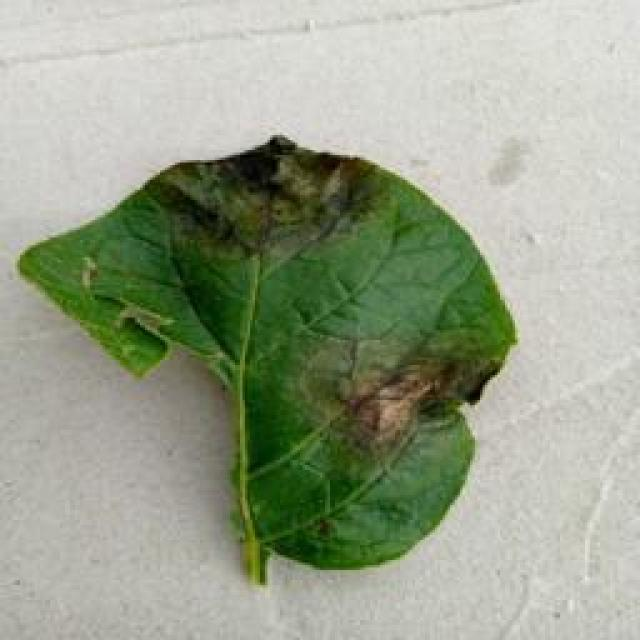late_blight: (12, 130, 520, 588)
